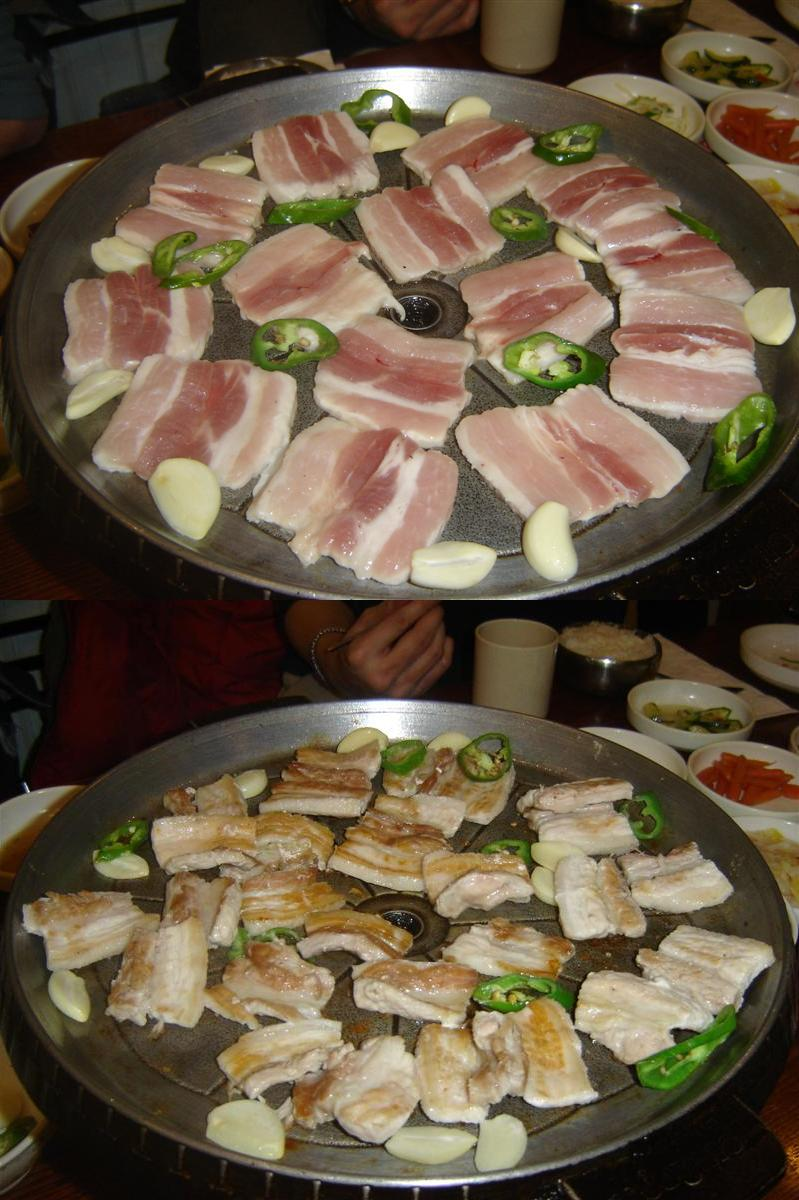bacon: (305, 290, 460, 445), (335, 781, 517, 907), (253, 94, 409, 241)
